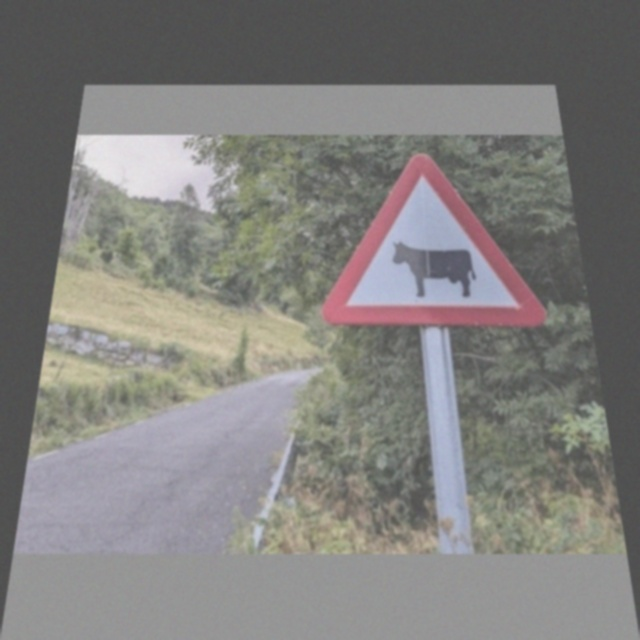Cattle: (335, 151, 541, 333)
